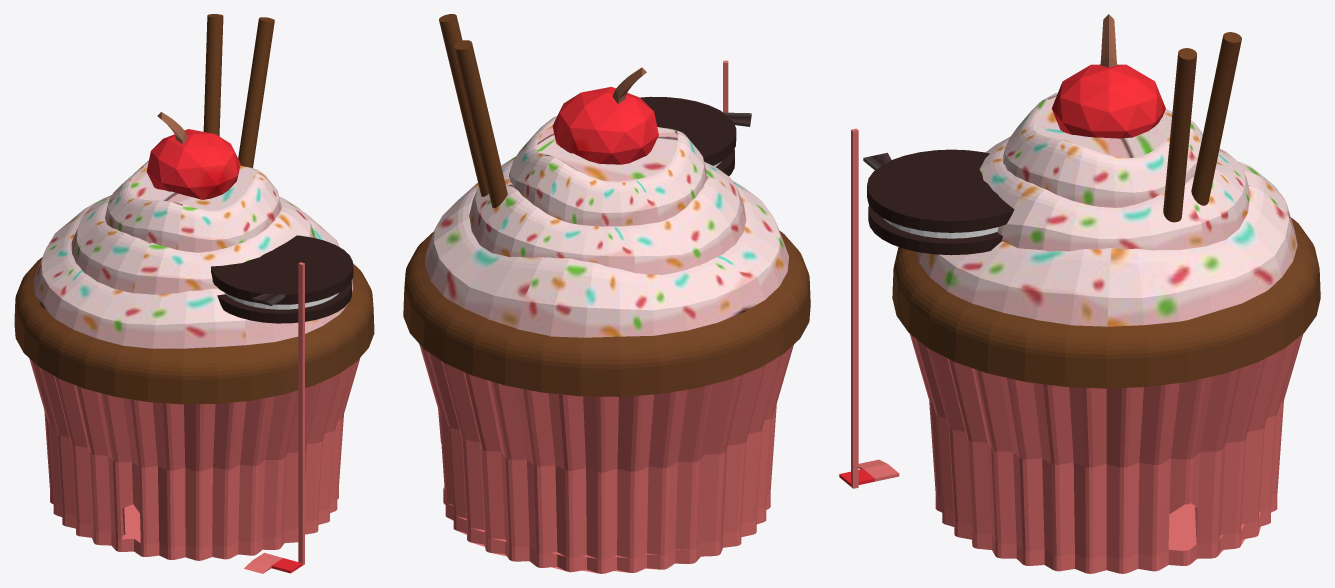
Rendered from 杯子蛋糕＋電梯.fbx.
3 views of the same model, side by side, from view 1: azimuth 30°, elevation 25°; view 2: azimuth 150°, elevation 25°; view 3: azimuth 270°, elevation 25° (orthographic). The views are drawn at different scales.
Visible parts, largest first — view 1: A.杯子蛋糕山, Circle.038, 杯子蛋糕地板, Cylinder.003, Cube.023, Cylinder.002; view 2: A.杯子蛋糕山, 杯子蛋糕地板, Circle.038, Cylinder.002, Cylinder.003; view 3: A.杯子蛋糕山, Circle.038, 杯子蛋糕地板, Cylinder.002, Cylinder.003, Cube.023.
Part boxes in pixels (<box>): A.杯子蛋糕山: <box>14,112,374,548</box>; Circle.038: <box>211,235,353,323</box>; 杯子蛋糕地板: <box>50,485,338,560</box>; Cylinder.003: <box>238,17,274,168</box>; Cube.023: <box>298,262,304,565</box>; Cylinder.002: <box>203,14,223,136</box>; A.杯子蛋糕山: <box>403,67,810,559</box>; 杯子蛋糕地板: <box>443,487,770,573</box>; Circle.038: <box>640,96,736,175</box>; Cylinder.002: <box>454,40,507,208</box>; Cylinder.003: <box>439,14,488,196</box>; A.杯子蛋糕山: <box>892,14,1320,558</box>; Circle.038: <box>867,149,1014,255</box>; 杯子蛋糕地板: <box>935,494,1277,573</box>; Cylinder.002: <box>1191,32,1241,205</box>; Cylinder.003: <box>1163,48,1196,222</box>; Cube.023: <box>851,128,858,488</box>.
Size of the model in its own units: 5024 by 4470 by 5890.
